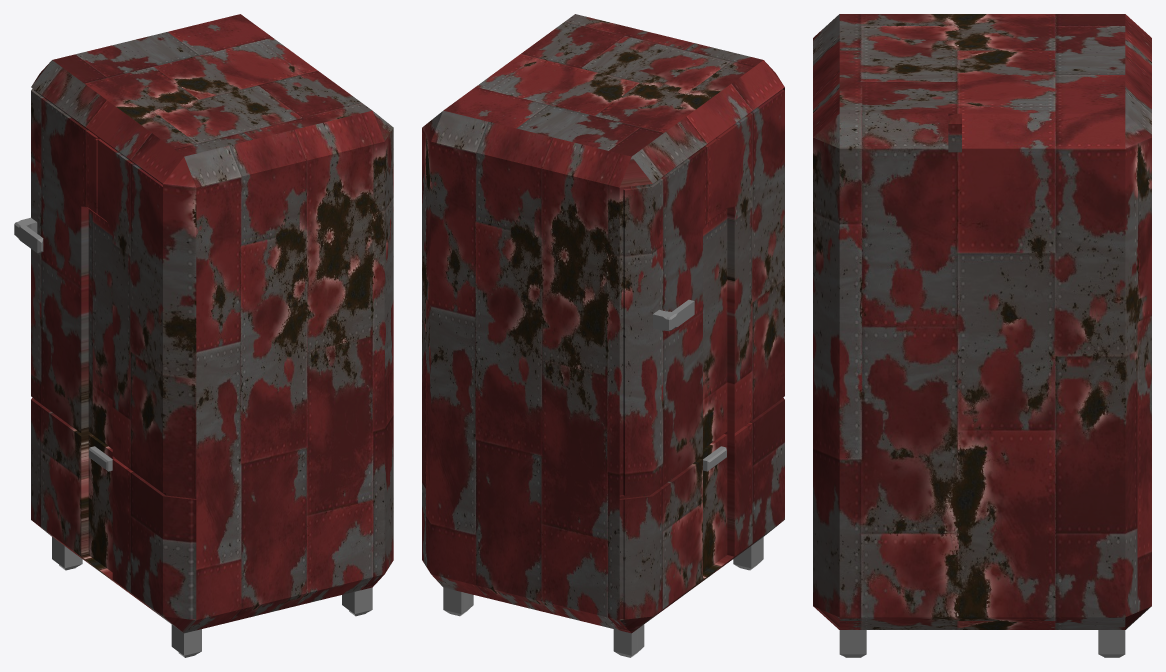
The model's file is Geladeira.fbx.
3 renders of one model, left to right at view 1: azimuth 30°, elevation 25°; view 2: azimuth 150°, elevation 25°; view 3: azimuth 270°, elevation 25°, orthographic. The views are drawn at different scales.
Visible parts, largest first — view 1: Cube, Cube.003, Cube.001; view 2: Cube, Cube.003, Cube.001; view 3: Cube, Cube.003.
Part boxes in pixels (x1,y1,x2,y2): Cube: (31, 14, 393, 633); Cube.003: (52, 537, 372, 657); Cube.001: (14, 217, 43, 253); Cube: (422, 14, 784, 633); Cube.003: (443, 537, 763, 657); Cube.001: (653, 299, 694, 331); Cube: (813, 14, 1151, 629); Cube.003: (839, 630, 1125, 657).
Bounding box in the file's own units: 215 × 418 × 235.
2 materials, 2 textured.
